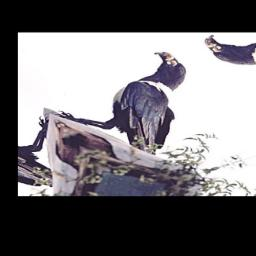Crow: (33, 48, 246, 173)
